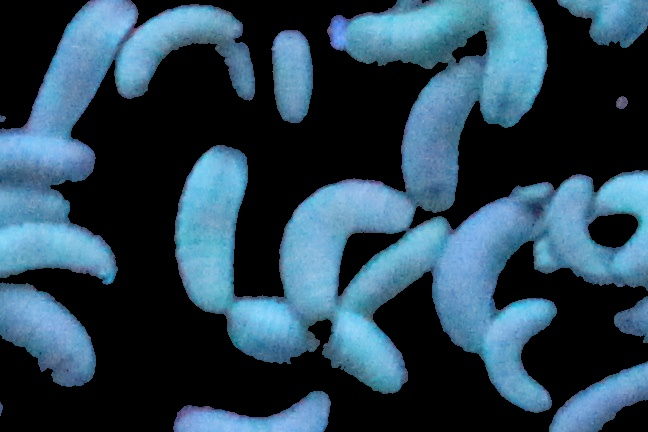larvae: (434, 186, 550, 353), (278, 179, 412, 312), (30, 1, 137, 134), (176, 143, 247, 314), (118, 9, 244, 101), (341, 220, 449, 313), (480, 297, 566, 413), (472, 1, 548, 129), (320, 1, 479, 62), (1, 284, 96, 386), (406, 69, 479, 197), (544, 171, 610, 280), (322, 311, 409, 392), (1, 224, 120, 282), (218, 299, 319, 367), (550, 362, 648, 432), (595, 163, 648, 287), (171, 392, 333, 432), (1, 129, 96, 183), (276, 24, 310, 126), (1, 182, 81, 224), (208, 37, 258, 103)
